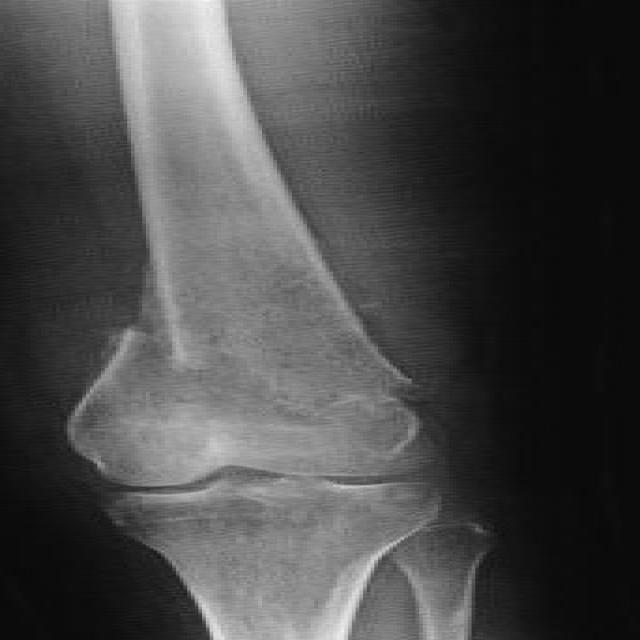pathological: (85, 289, 483, 450)
